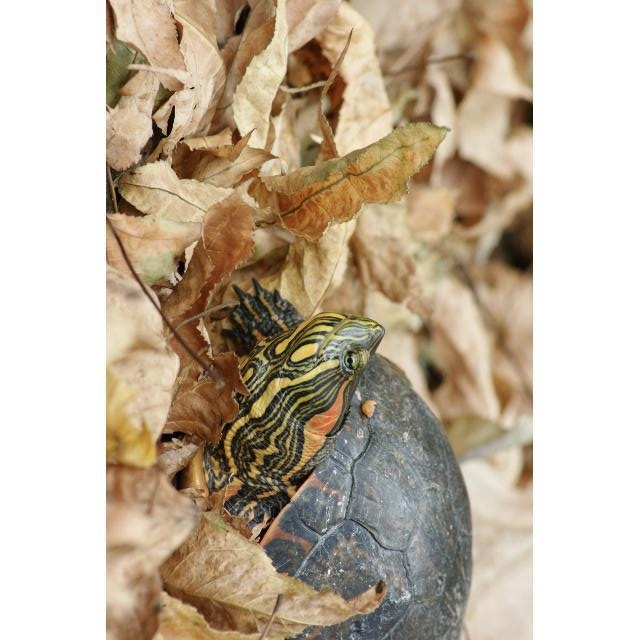turtle: (185, 276, 475, 639)
